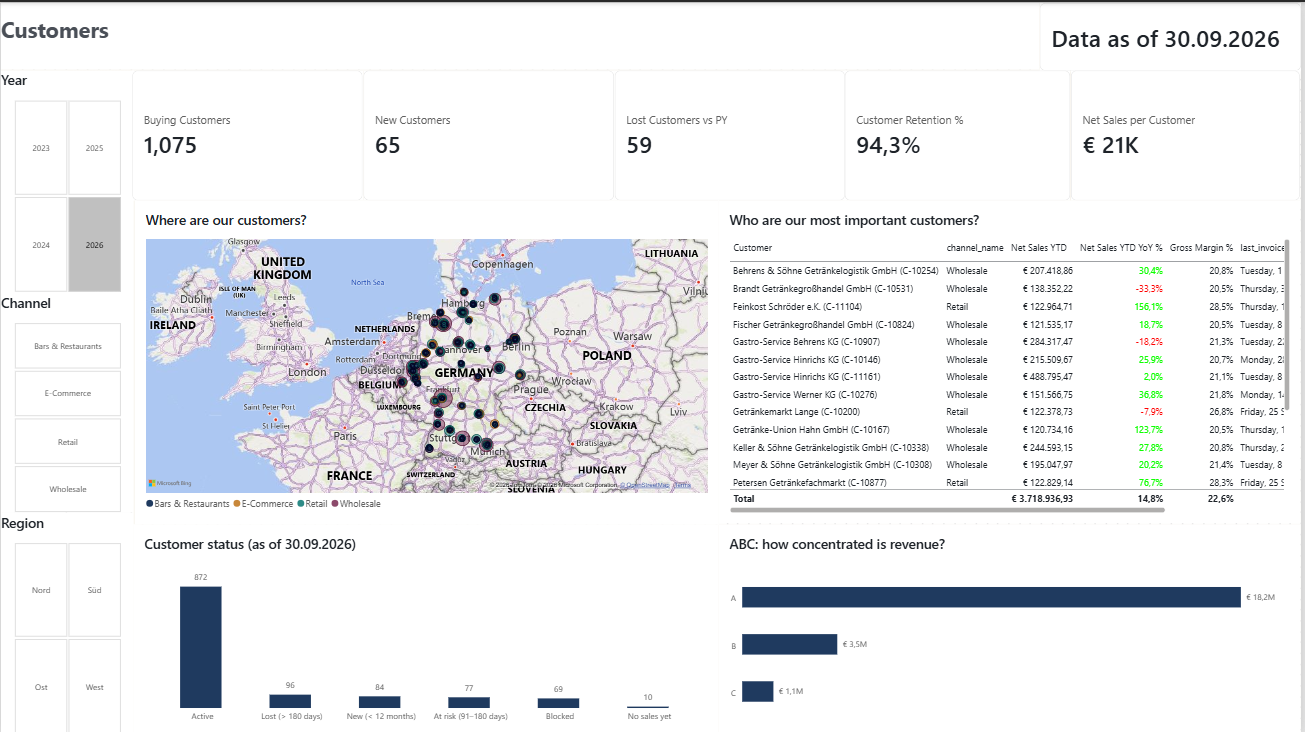

The page's visual inventory and layout, read from the dashboard file:
{"tool":"powerbi","page":{"name":"Customers","canvas":[1920,1080],"ordinal":2},"visuals":[{"type":"slicer","title":"Year","fields":{"Values":["dim_date.year"]},"box":[0,99.7,195.7,328.6],"z":0},{"type":"slicer","title":"Channel","fields":{"Values":["dim_customer.channel_name"]},"box":[0,428.3,195.7,324.9],"z":1000},{"type":"slicer","title":"Region","fields":{"Values":["dim_customer.customer_region"]},"box":[0,753.2,195.7,326.8],"z":2000},{"type":"textbox","box":[0,0,1533.7,98.3],"z":3000},{"type":"cardVisual","fields":{"Data":["_Measures.Data As Of"]},"box":[1533.7,0,386.3,100.6],"z":4000},{"type":"cardVisual","fields":{"Data":["_Measures.Buying Customers (Card)"]},"box":[194.1,99.8,340.7,192],"z":5000},{"type":"cardVisual","fields":{"Data":["_Measures.New Customers (Card)"]},"box":[534.8,99.8,370.8,192],"z":6000},{"type":"cardVisual","fields":{"Data":["_Measures.Lost Customers vs PY"]},"box":[905.7,99.8,340.7,192],"z":7000},{"type":"cardVisual","fields":{"Data":["_Measures.Customer Retention %"]},"box":[1246.4,99.8,333.2,192],"z":8000},{"type":"cardVisual","fields":{"Data":["_Measures.Net Sales per Customer"]},"box":[1579.5,99.8,338.8,192],"z":9000},{"type":"map","title":"Where are our customers?","fields":{"Series":["dim_customer.channel_name"],"Size":["_Measures.Net Sales YTD"],"X":["dim_customer.longitude"],"Y":["dim_customer.latitude"]},"box":[197.5,292.5,862.5,477.5],"z":10000},{"type":"tableEx","title":"Who are our most important customers?","fields":{"Values":["dim_customer.Customer","dim_customer.channel_name","_Measures.Net Sales YTD","_Measures.Net Sales YTD YoY %","_Measures.Gross Margin %","dim_customer.last_invoice_date","dim_customer.customer_status"]},"box":[1060,292.5,860,477.5],"z":11000},{"type":"columnChart","title":"Customer status (as of 30.09.2026)","fields":{"Category":["dim_customer.customer_status"],"Y":["CountNonNull(dim_customer.customer_no)"]},"box":[195.7,769.8,864,312],"z":12000},{"type":"barChart","title":"ABC: how concentrated is revenue?","fields":{"Category":["dim_customer.abc_class"],"Y":["_Measures.Net Sales YTD"]},"box":[1059.7,769.8,860.3,310.2],"z":13000}]}

Visuals, with their boxes in screenshot pixels (x1, y1, x2, y2), scaled from the page's 1920x1080 canvas onto the 1305x732 screenshot:
"Year" slicer: <region>0, 68, 133, 290</region>
"Channel" slicer: <region>0, 290, 133, 511</region>
"Region" slicer: <region>0, 511, 133, 731</region>
textbox: <region>0, 0, 1042, 67</region>
cardVisual - _Measures.Data As Of: <region>1042, 0, 1304, 68</region>
cardVisual - _Measures.Buying Customers (Card): <region>132, 68, 363, 198</region>
cardVisual - _Measures.New Customers (Card): <region>363, 68, 616, 198</region>
cardVisual - _Measures.Lost Customers vs PY: <region>616, 68, 847, 198</region>
cardVisual - _Measures.Customer Retention %: <region>847, 68, 1074, 198</region>
cardVisual - _Measures.Net Sales per Customer: <region>1074, 68, 1304, 198</region>
"Where are our customers?" map: <region>134, 198, 720, 522</region>
"Who are our most important customers?" tableEx: <region>720, 198, 1304, 522</region>
"Customer status (as of 30.09.2026)" columnChart: <region>133, 522, 720, 731</region>
"ABC: how concentrated is revenue?" barChart: <region>720, 522, 1304, 731</region>
